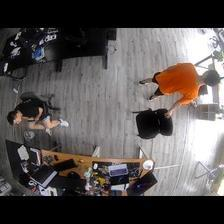normal: (139, 59, 219, 119), (7, 91, 71, 137)
